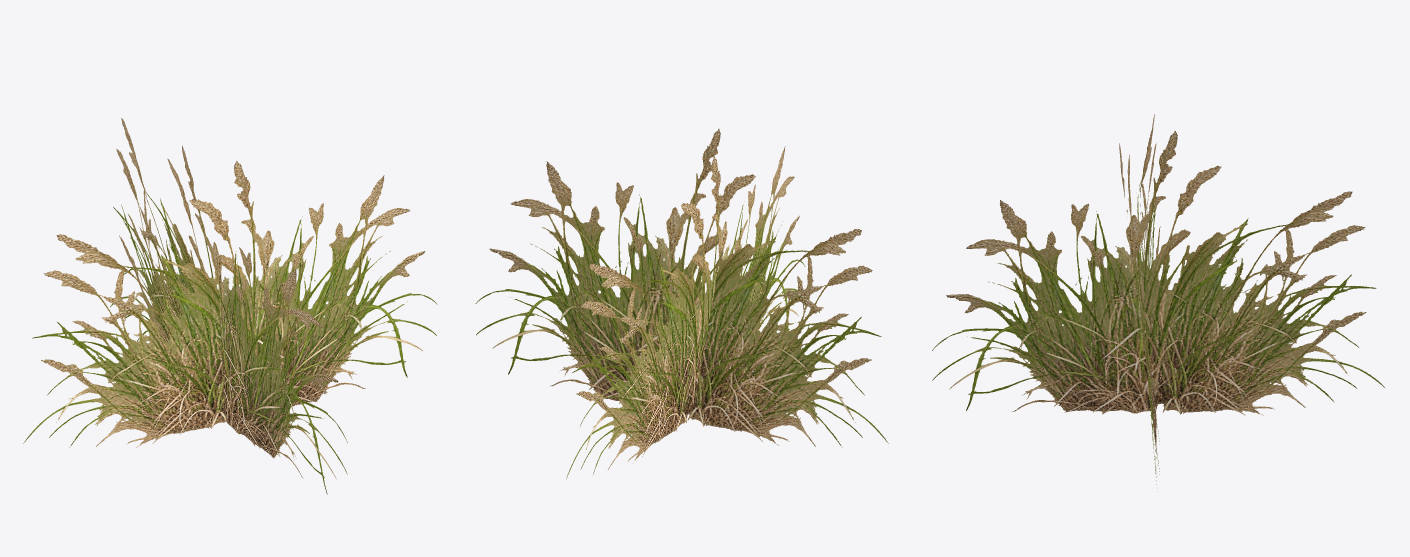
The model's file is upland-distant.glb.
3 renders of one model, left to right at view 1: azimuth 30°, elevation 25°; view 2: azimuth 150°, elevation 25°; view 3: azimuth 270°, elevation 25°, orthographic. The views are drawn at different scales.
Parts seen in each view (by area): view 1: upland-distant; view 2: upland-distant; view 3: upland-distant.
Part boxes in pixels (x1,y1,x2,y2): upland-distant: (23,118,437,494); upland-distant: (475,129,888,479); upland-distant: (932,114,1384,484).
Size of the model in its own units: 1.35 by 1.05 by 1.35.
1 material, 1 textured.
